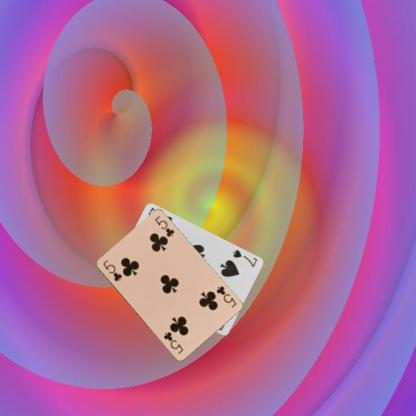5c: (213, 283, 238, 309), (100, 257, 123, 283)
7s: (230, 247, 258, 268)
